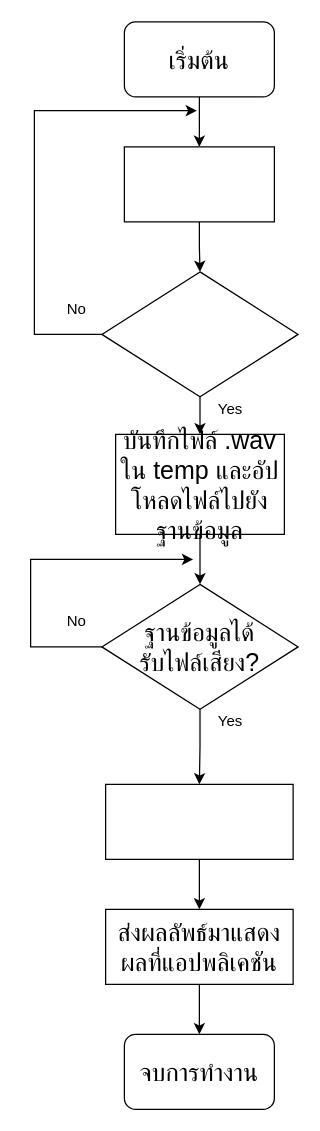
Some shapes in this 320 by 1131 pixel diagram are drawn without their labels. The shapes that lost their labels are listed below. From the top down, each one's centre as x and y in pixels, then its label:
At [198,184]: "กดปุ่มบันทึกเสียง".
At [199,334]: "ระยะเวลา = 5 วินาที?".
At [198,821]: "ส่งไฟล์เสียงไป ประมวลผลที่ APIs".
